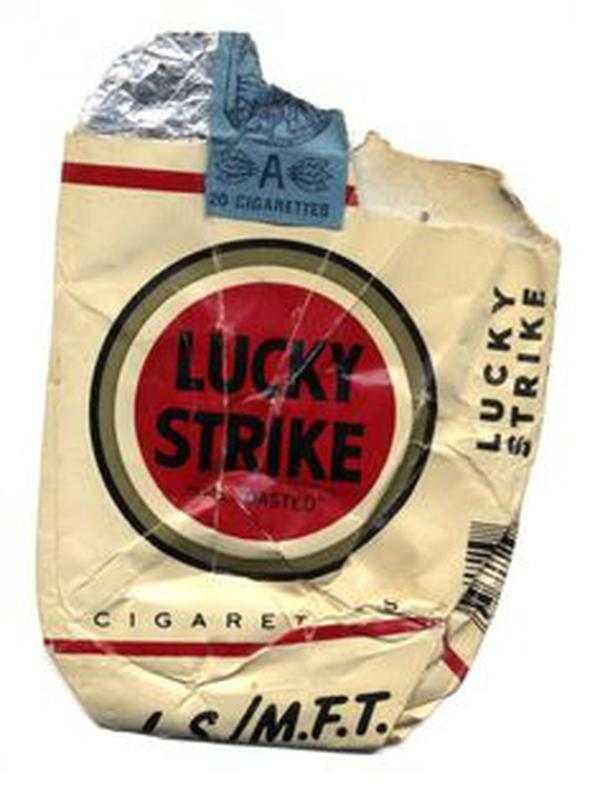lucky_strike_red: (72, 144, 459, 719)
